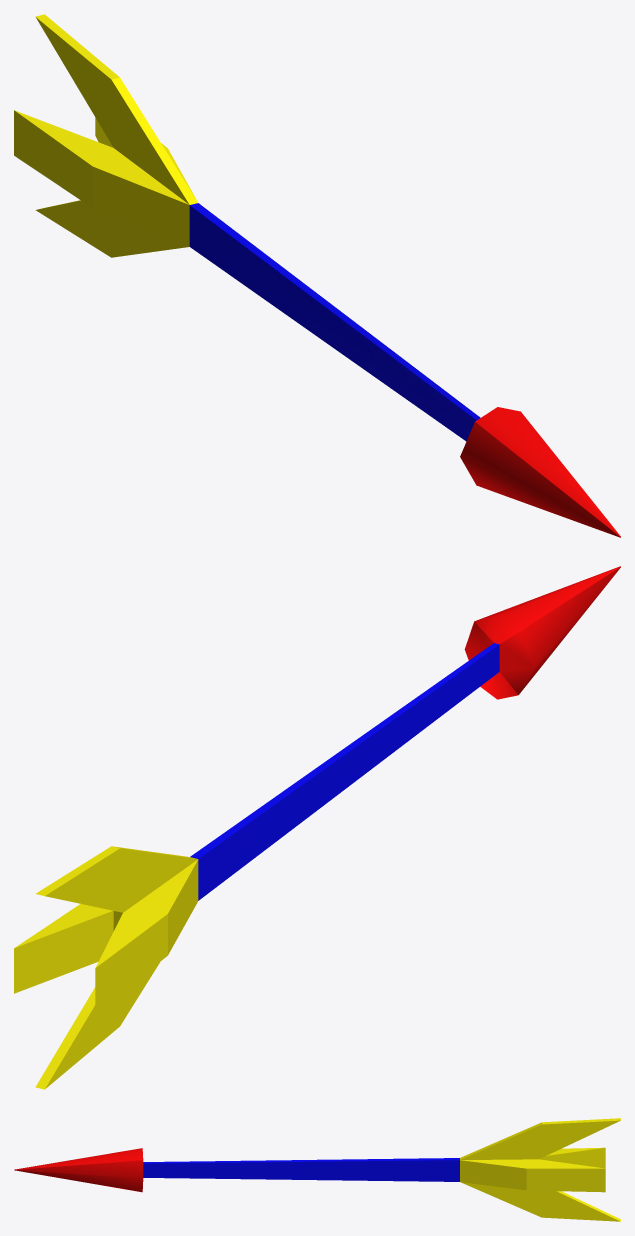
File: ArrowFBX.fbx
3 views of the same model, one above another, from view 1: azimuth 30°, elevation 25°; view 2: azimuth 150°, elevation 25°; view 3: azimuth 270°, elevation 25° (orthographic). The views are drawn at different scales.
Parts seen in each view (by area): view 1: pCube1; view 2: pCube1; view 3: pCube1.
Boxes of the visible parts, x1,y1,x2,y2 form: pCube1: (14,14,620,537); pCube1: (14,566,620,1089); pCube1: (14,1118,620,1221).
Bounding box in the file's own units: 1.88 × 4.26 × 23.16.
